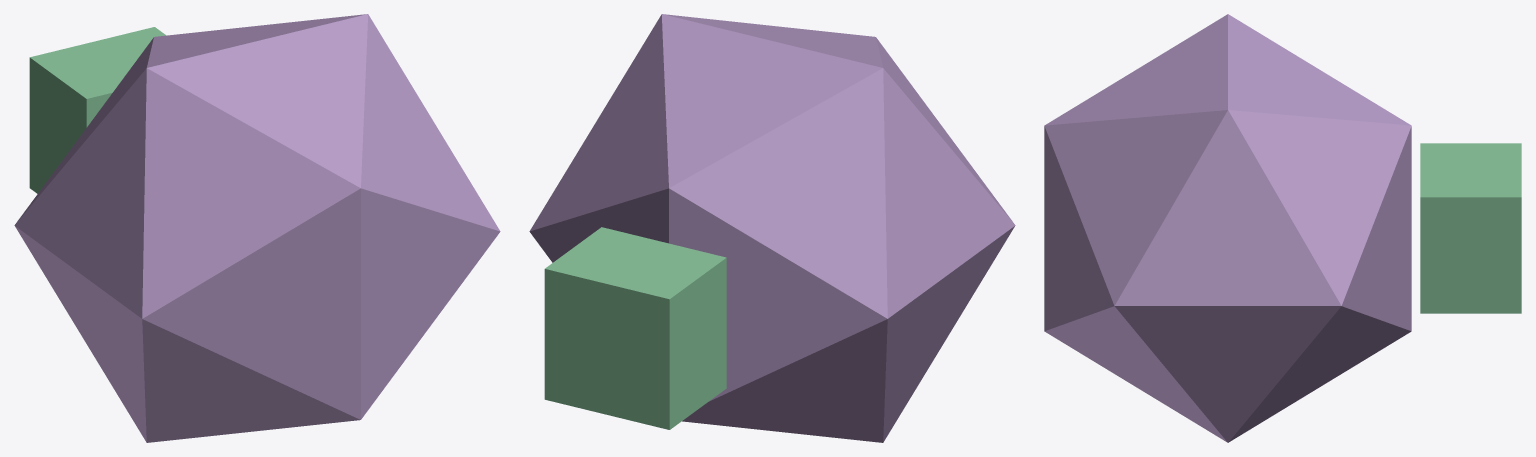
The picture shows the model from 3 angles, left to right: view 1: azimuth 30°, elevation 25°; view 2: azimuth 150°, elevation 25°; view 3: azimuth 270°, elevation 25°; orthographic projection. The views are drawn at different scales.
Visible parts, largest first — view 1: part0, part1; view 2: part0, part1; view 3: part0, part1.
Part boxes in pixels (x1,y1,x2,y2): part0: [14, 14, 500, 442]; part1: [29, 27, 166, 193]; part0: [529, 14, 1015, 442]; part1: [544, 227, 726, 429]; part0: [1044, 14, 1411, 442]; part1: [1420, 143, 1521, 313].
Bounding box in the file's own units: 2.72 × 2.72 × 3.54.
